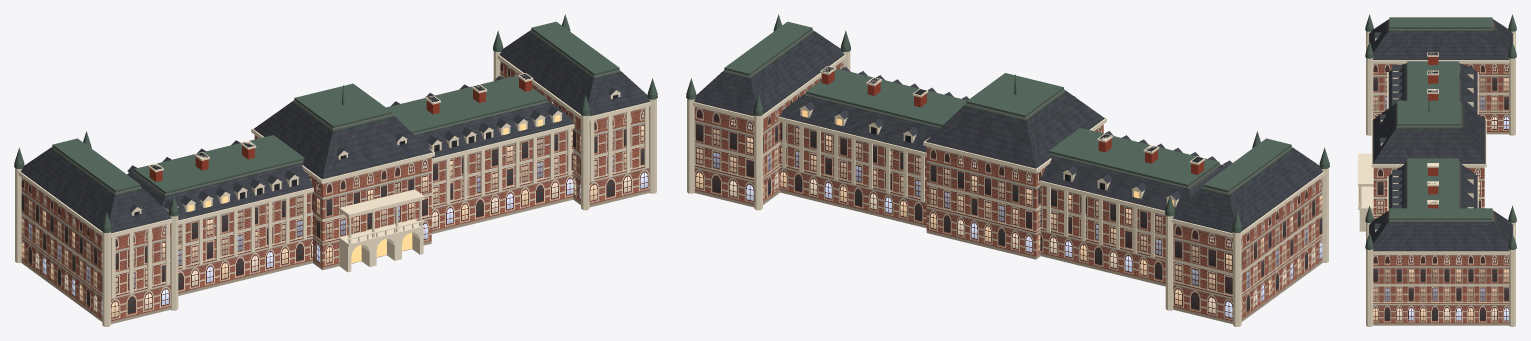
File: ministry_of_justice_red_brick.glb
3 renders of one model, left to right at view 1: azimuth 30°, elevation 25°; view 2: azimuth 150°, elevation 25°; view 3: azimuth 270°, elevation 25°, orthographic. The views are drawn at different scales.
Parts seen in each view (by area): view 1: ministry_of_justice_red_brick; view 2: ministry_of_justice_red_brick; view 3: ministry_of_justice_red_brick.
Part boxes in pixels (x1,y1,x2,y2): ministry_of_justice_red_brick: (14, 14, 657, 326); ministry_of_justice_red_brick: (686, 14, 1329, 326); ministry_of_justice_red_brick: (1358, 14, 1516, 326).
Bounding box in the file's own units: 132 × 33.5 × 40.
Materials: 2 (2 with a texture image).
